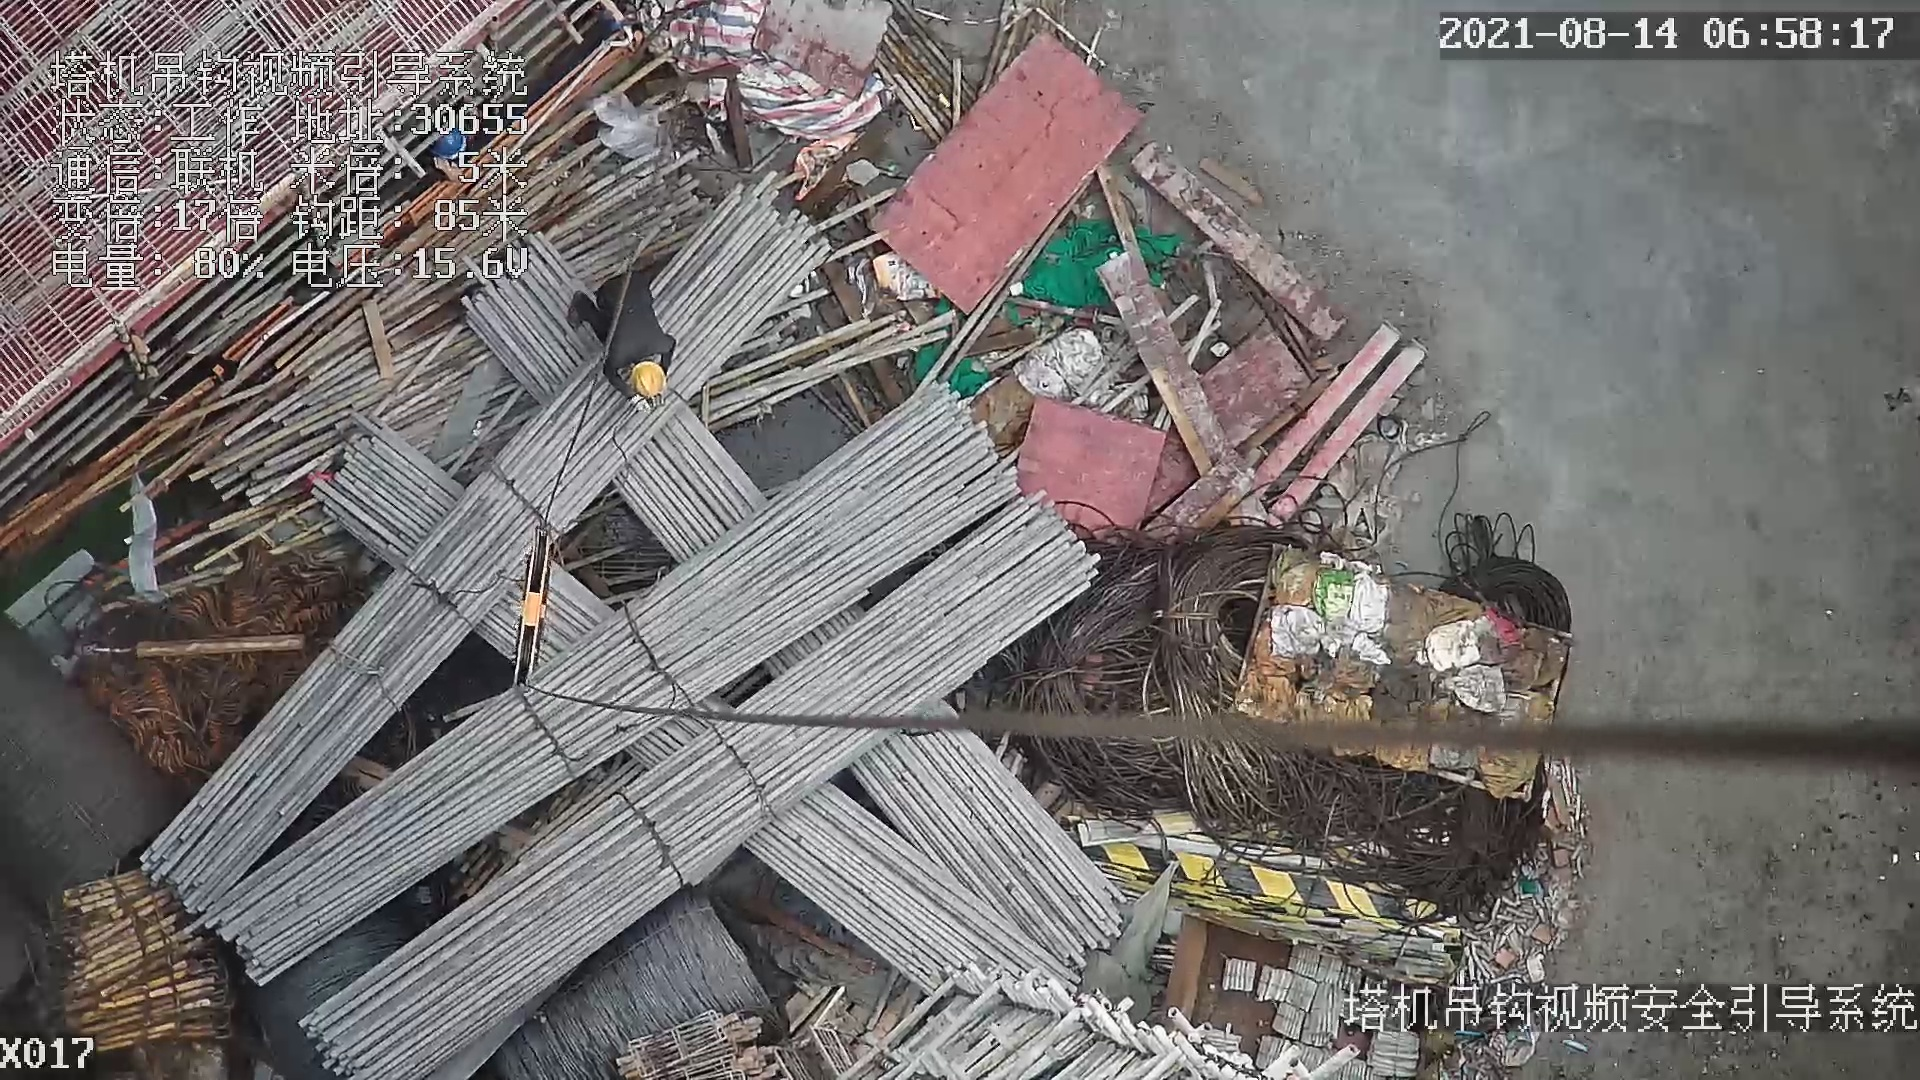helmet: (631, 361, 665, 398)
hook: (513, 517, 563, 697)
person: (576, 271, 678, 414)
rebar: (139, 183, 827, 916), (202, 381, 1023, 992), (297, 499, 1092, 1080), (850, 710, 1129, 968), (744, 784, 1085, 992)
scaffold: (55, 869, 236, 1049)
